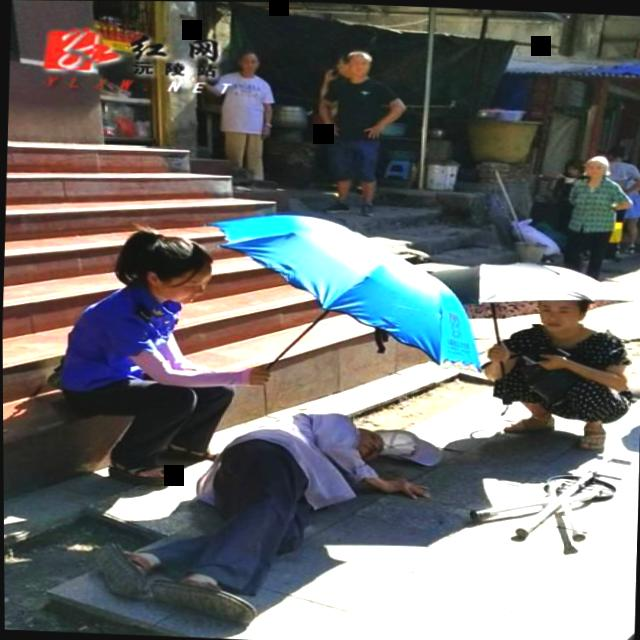Fall-Detected: (71, 385, 433, 638)
